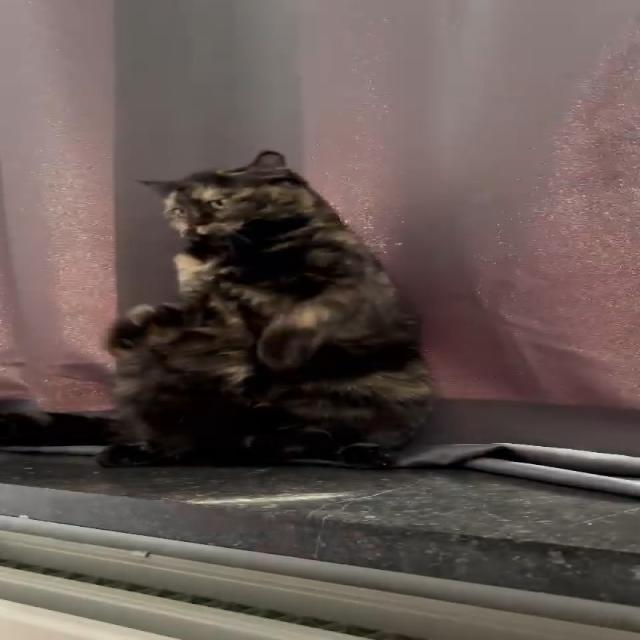authorized: (93, 148, 436, 468)
